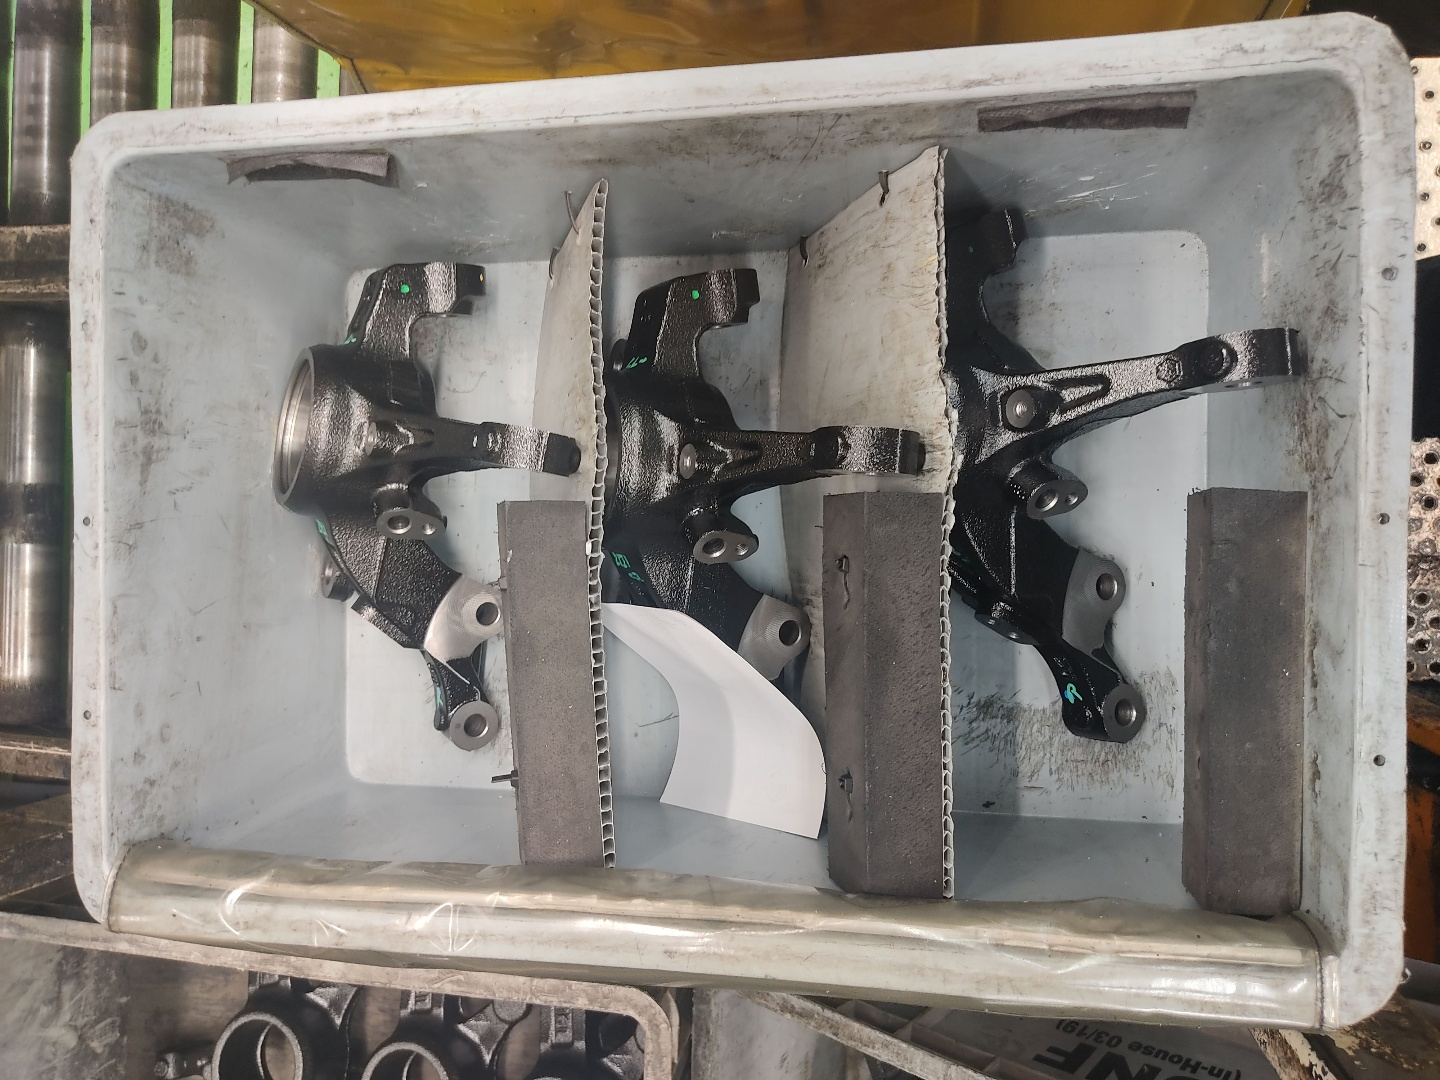abs-rh: (937, 193, 1319, 750), (592, 252, 927, 757), (266, 248, 590, 763)
